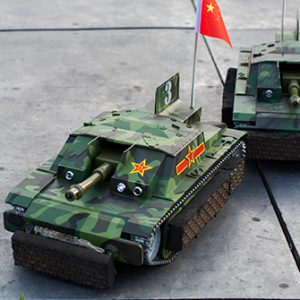Battle Tank: (5, 99, 248, 285)
